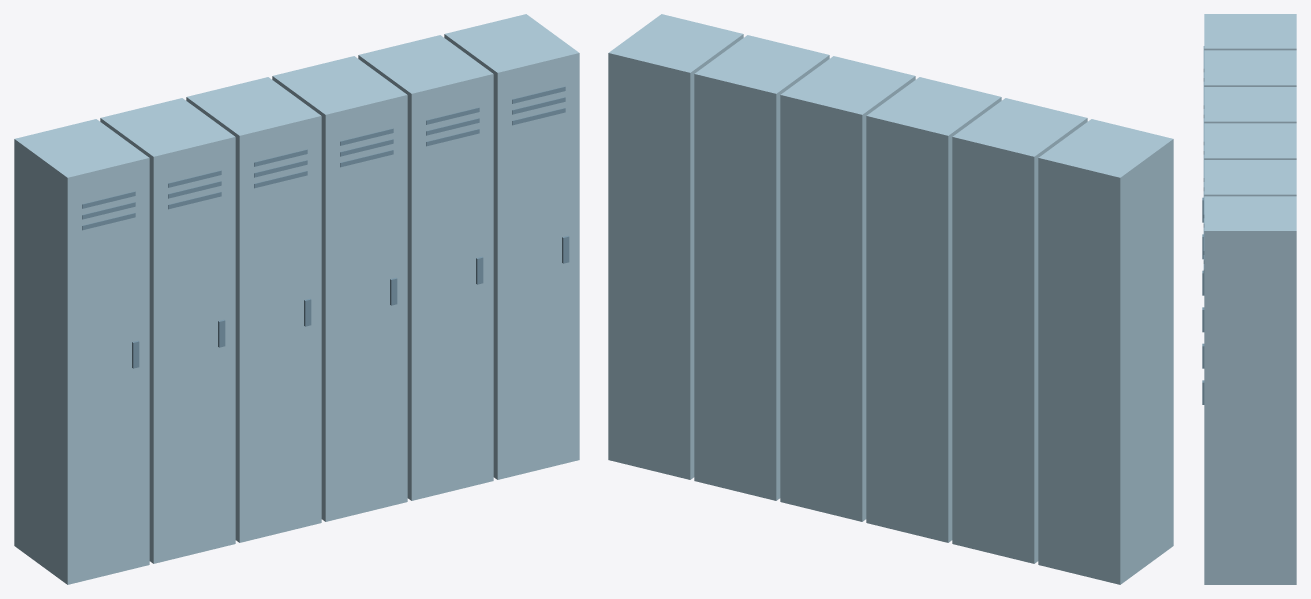
File: lockers_pale.glb
3 renders of one model, left to right at view 1: azimuth 30°, elevation 25°; view 2: azimuth 150°, elevation 25°; view 3: azimuth 270°, elevation 25°, orthographic. The views are drawn at different scales.
Visible parts, largest first — view 1: lockers_pale; view 2: lockers_pale; view 3: lockers_pale.
Boxes of the visible parts, <box> form: lockers_pale: <box>14,14,579,584</box>; lockers_pale: <box>608,14,1173,584</box>; lockers_pale: <box>1202,14,1296,584</box>.
Size of the model in its own units: 2.5 by 1.9 by 0.46.
